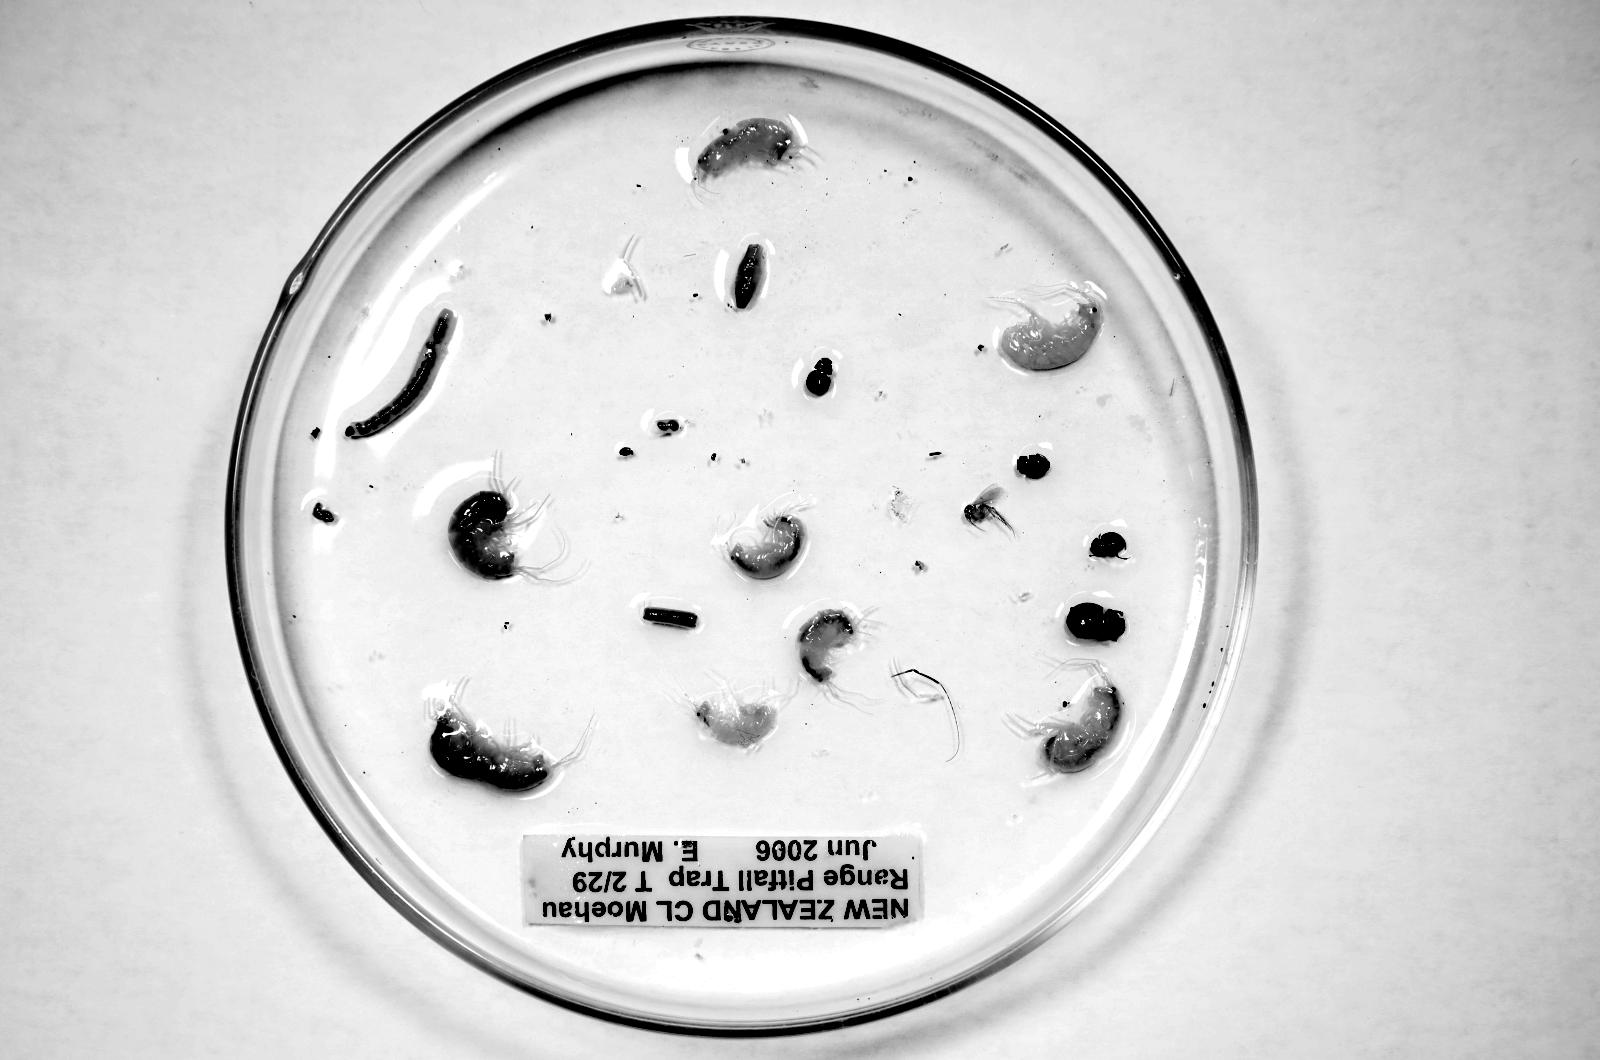amphipoda: (432, 707, 561, 789), (997, 298, 1101, 371), (1041, 683, 1122, 773), (697, 118, 808, 176), (449, 490, 516, 577), (726, 513, 804, 579), (797, 608, 856, 685), (694, 699, 777, 748)
annelida: (345, 309, 454, 438)
coleoptera: (1067, 602, 1125, 640), (807, 357, 833, 395), (1089, 532, 1126, 557), (1016, 453, 1050, 478)
diptera: (963, 485, 1011, 530)
